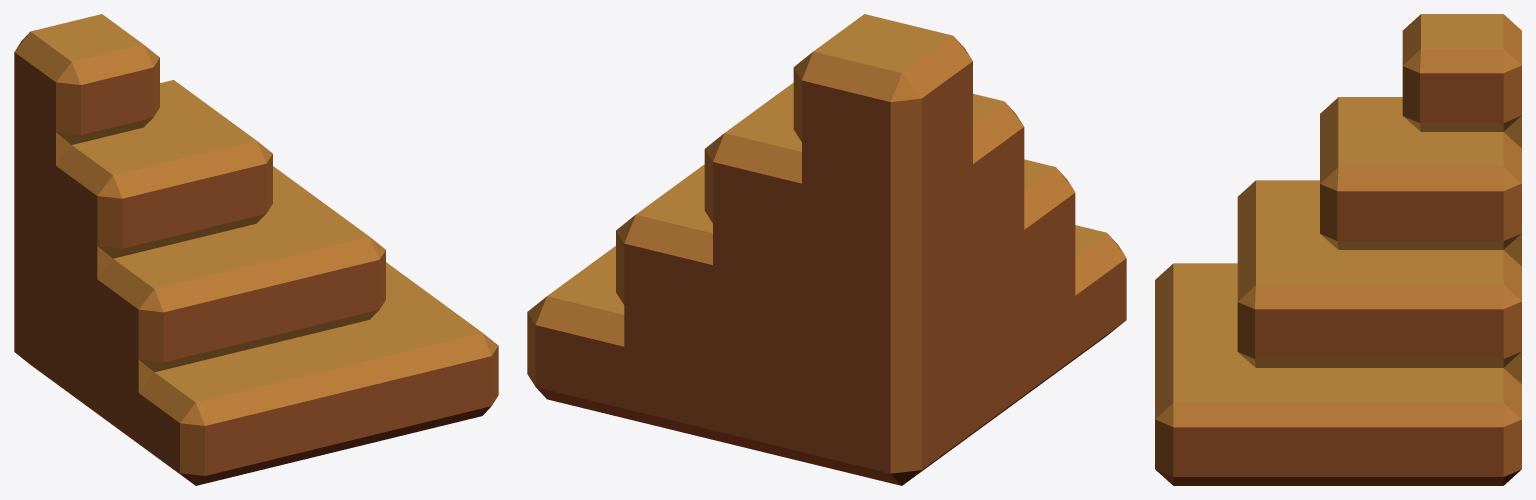
The model's file is m_kub_wood_stairs_block_cornerOut.FBX.
3 renders of one model, left to right at view 1: azimuth 30°, elevation 25°; view 2: azimuth 150°, elevation 25°; view 3: azimuth 270°, elevation 25°, orthographic. The views are drawn at different scales.
Visible parts, largest first — view 1: m_kub_wood_stairs_block_cornerOut; view 2: m_kub_wood_stairs_block_cornerOut; view 3: m_kub_wood_stairs_block_cornerOut.
Part boxes in pixels (x1=…): m_kub_wood_stairs_block_cornerOut: x1=14, y1=14, x2=498, y2=485; m_kub_wood_stairs_block_cornerOut: x1=527, y1=14, x2=1126, y2=485; m_kub_wood_stairs_block_cornerOut: x1=1155, y1=14, x2=1521, y2=485.
Bounding box in the file's own units: 2 × 2 × 2.
